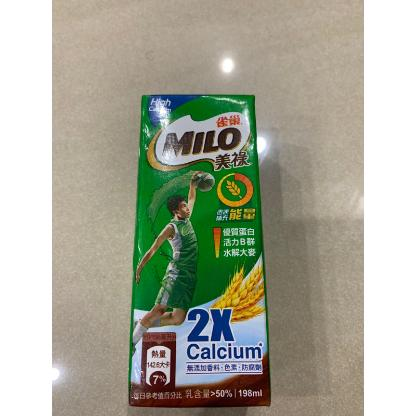Others: (129, 94, 271, 407)
